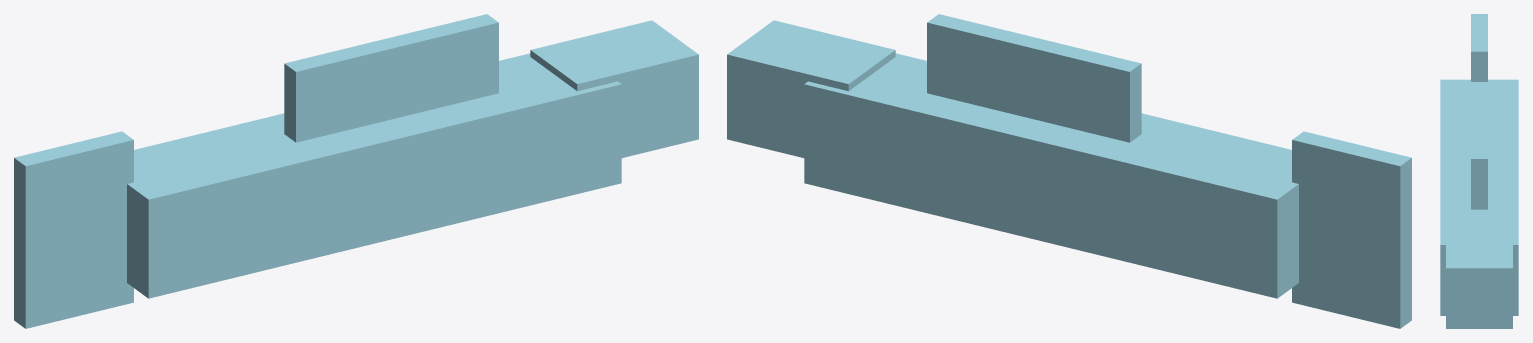
The model's file is fish_crystal_smelt.glb.
3 views of the same model, side by side, from view 1: azimuth 30°, elevation 25°; view 2: azimuth 150°, elevation 25°; view 3: azimuth 270°, elevation 25° (orthographic). The views are drawn at different scales.
Parts seen in each view (by area): view 1: species.crystal_smelt; view 2: species.crystal_smelt; view 3: species.crystal_smelt.
Boxes of the visible parts, left/top/right/bottom form: species.crystal_smelt: left=14, top=14, right=698, bottom=328; species.crystal_smelt: left=727, top=14, right=1411, bottom=328; species.crystal_smelt: left=1440, top=14, right=1518, bottom=328.
Bounding box in the file's own units: 0.3 × 0.0835 × 0.0433.
